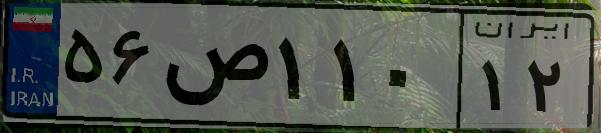0: (385, 28, 445, 110)
1: (270, 28, 330, 110), (330, 28, 385, 110), (475, 38, 525, 113)
2: (525, 38, 570, 115)
5: (57, 26, 110, 100)
6: (110, 28, 158, 98)
ص: (158, 20, 270, 120)
